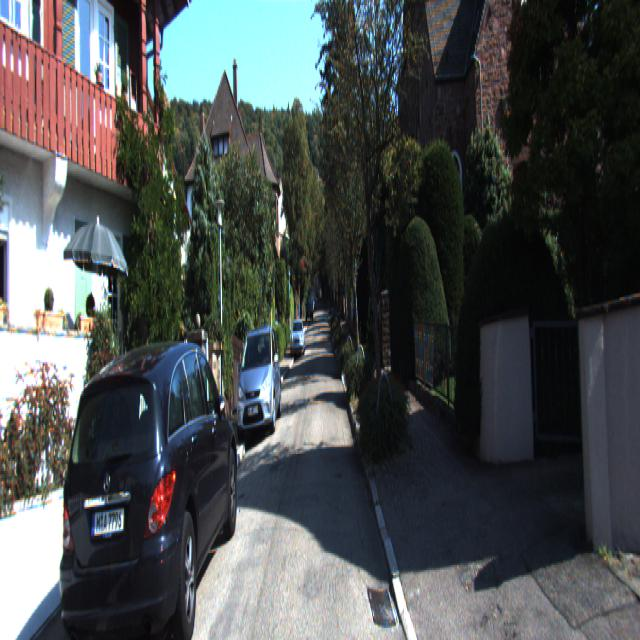Car: (58, 319, 239, 638), (235, 320, 282, 439), (290, 318, 306, 358)
